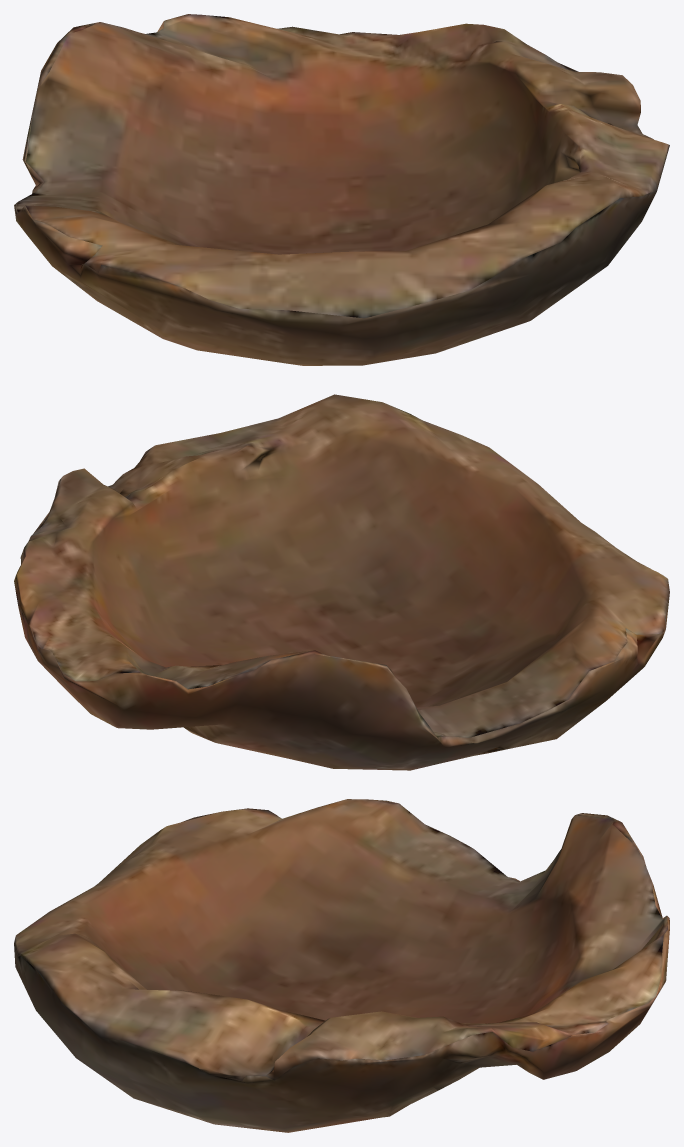
File: wooden_bowl_01.low.glb
3 views of the same model, one above another, from view 1: azimuth 30°, elevation 25°; view 2: azimuth 150°, elevation 25°; view 3: azimuth 270°, elevation 25° (orthographic). The views are drawn at different scales.
Parts seen in each view (by area): view 1: body; view 2: body; view 3: body.
Part boxes in pixels (x1,y1,x2,y2): body: [14, 14, 669, 365]; body: [14, 394, 669, 770]; body: [14, 799, 669, 1132].
Bounding box in the file's own units: 0.3123 × 0.093 × 0.3087.
Materials: 1 (1 with a texture image).
